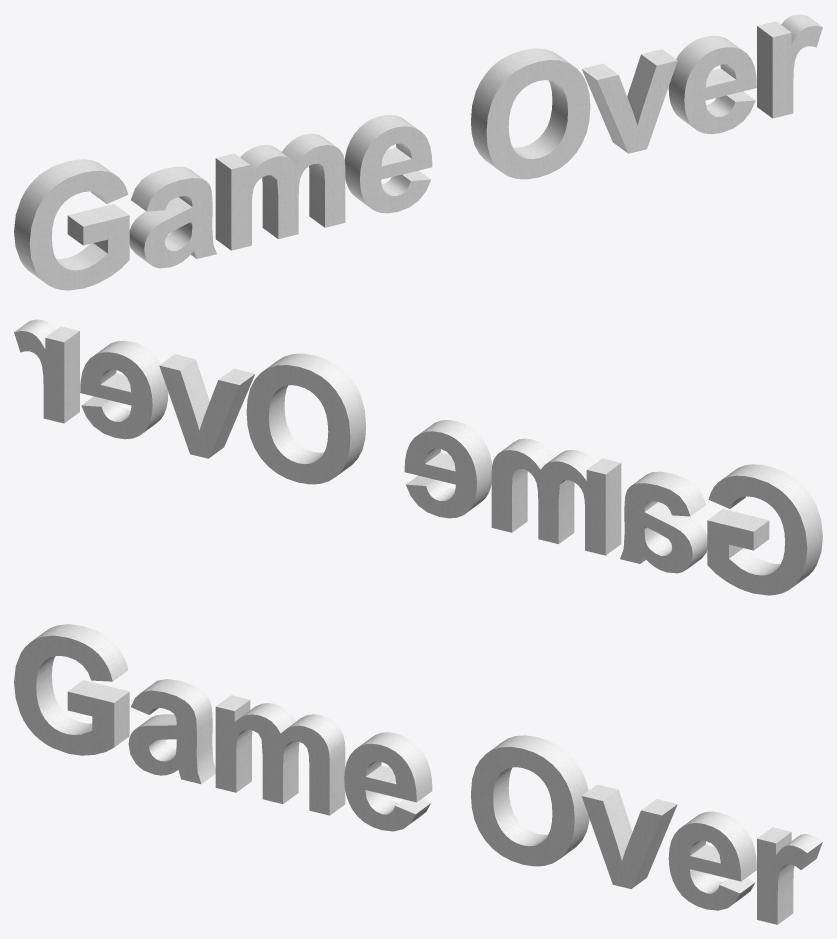
File: gameover.dae
3 renders of one model, top to bottom at view 1: azimuth 30°, elevation 25°; view 2: azimuth 150°, elevation 25°; view 3: azimuth 330°, elevation 25°, orthographic.
Visible parts, largest first — view 1: Game_Over1; view 2: Game_Over1; view 3: Game_Over1.
Boxes of the visible parts, x1,y1,x2,y2 form: Game_Over1: [14, 14, 822, 290]; Game_Over1: [14, 319, 822, 595]; Game_Over1: [14, 624, 822, 924].
Size of the model in its own units: 339 by 11.56 by 47.28.
